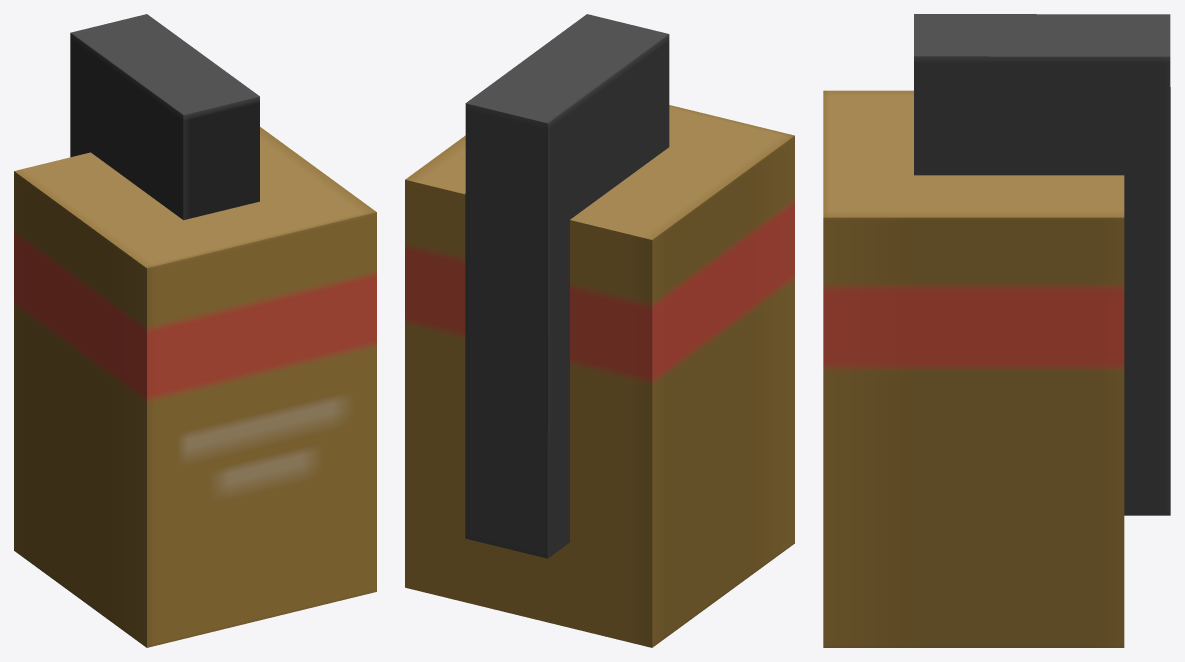
Rendered from SM_Wep_SmokeBomb_01.fbx.
3 views of the same model, side by side, from view 1: azimuth 30°, elevation 25°; view 2: azimuth 150°, elevation 25°; view 3: azimuth 270°, elevation 25° (orthographic). The views are drawn at different scales.
Parts seen in each view (by area): view 1: SM_Wep_SmokeBomb_01; view 2: SM_Wep_SmokeBomb_01; view 3: SM_Wep_SmokeBomb_01.
Part boxes in pixels (x1,y1,x2,y2): SM_Wep_SmokeBomb_01: (14,14,376,647); SM_Wep_SmokeBomb_01: (405,14,794,647); SM_Wep_SmokeBomb_01: (823,14,1170,647).
Bounding box in the file's own units: 15.36 × 30.93 × 17.74.
